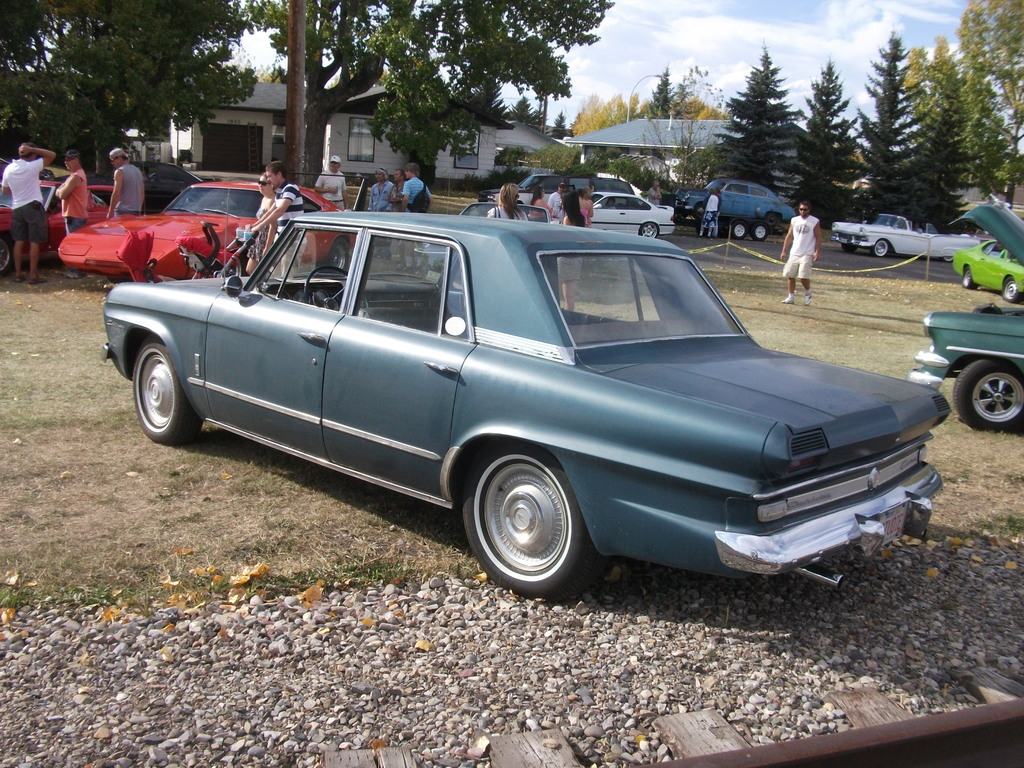Car: (99, 206, 951, 601), (56, 175, 368, 288), (906, 197, 1023, 430), (0, 177, 117, 279), (413, 200, 557, 274), (49, 165, 220, 212), (529, 193, 676, 240), (828, 213, 976, 255), (673, 180, 794, 227), (954, 237, 1023, 306)
